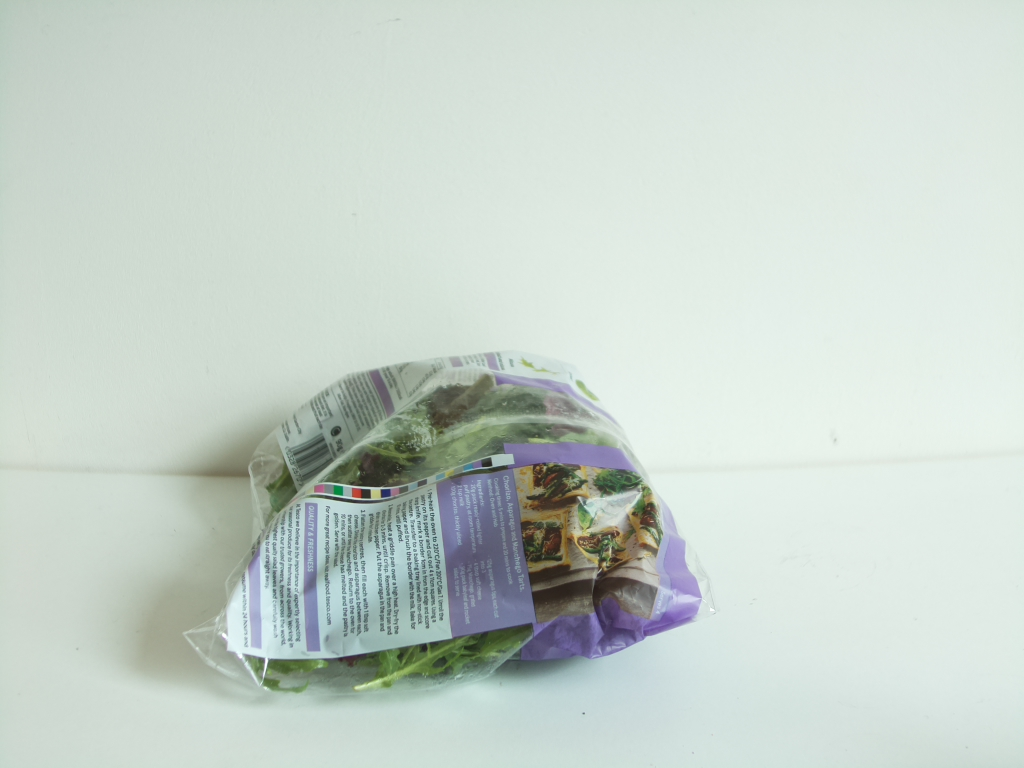salad: (217, 347, 708, 696)
